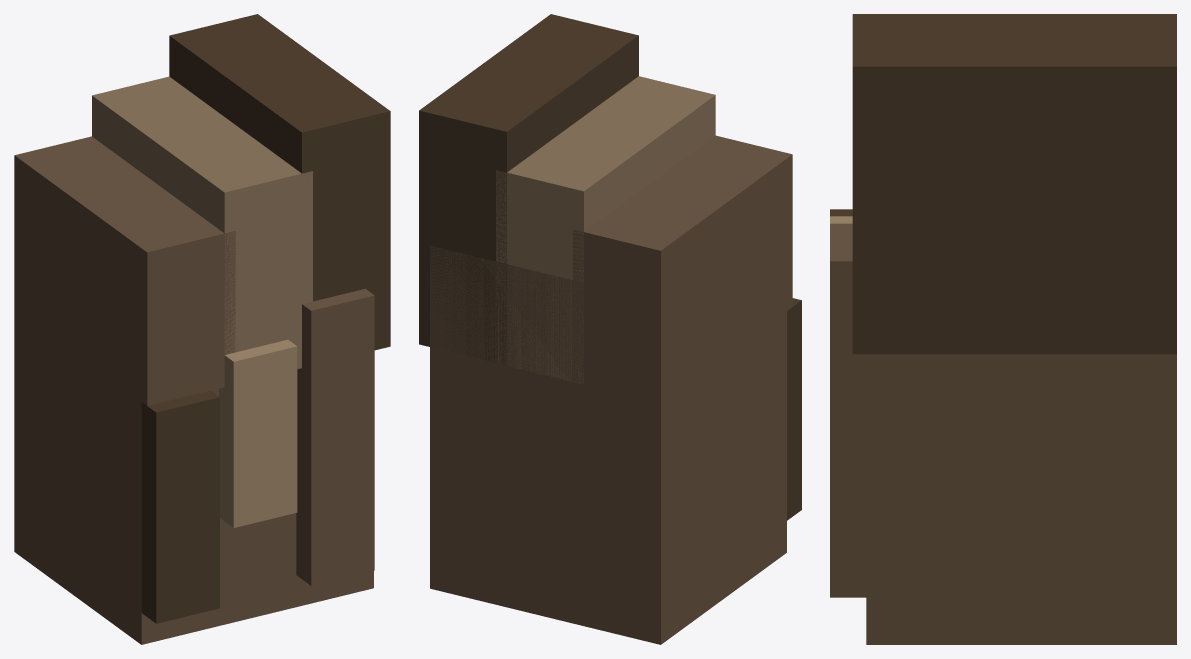
File: CMU3DPlatformKutjevoRockCornerSmall.glb
The picture shows the model from 3 angles, left to right: view 1: azimuth 30°, elevation 25°; view 2: azimuth 150°, elevation 25°; view 3: azimuth 270°, elevation 25°; orthographic projection. The views are drawn at different scales.
Parts seen in each view (by area): view 1: broken rock crown (×3), rock edge core, fractured rock face (×3); view 2: rock edge core, broken rock crown (×3), fractured rock face; view 3: broken rock crown, rock edge core, fractured rock face.
Boxes of the visible parts, x1=… form: broken rock crown (×3): x1=14, y1=14, x2=390, y2=405; rock edge core: x1=14, y1=206, x2=373, y2=644; fractured rock face (×3): x1=141, y1=288, x2=374, y2=623; rock edge core: x1=430, y1=237, x2=786, y2=644; broken rock crown (×3): x1=419, y1=14, x2=792, y2=402; fractured rock face: x1=787, y1=298, x2=801, y2=520; broken rock crown: x1=852, y1=14, x2=1176, y2=354; rock edge core: x1=866, y1=354, x2=1176, y2=644; fractured rock face: x1=830, y1=223, x2=866, y2=597.
Size of the model in its own units: 0.199 by 0.374 by 0.201.
